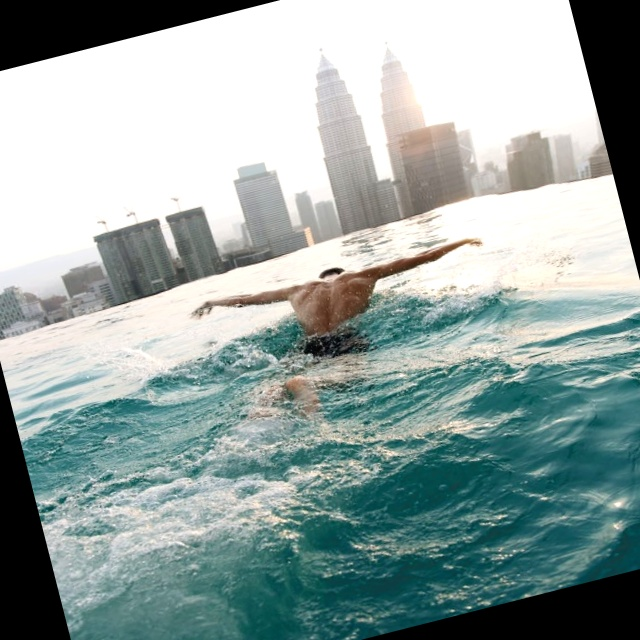contaminated_water: (13, 13, 627, 627)
foam_scum: (0, 0, 640, 606)
oil_spill: (0, 0, 277, 71), (569, 0, 640, 270), (0, 370, 67, 640), (374, 572, 640, 640)
turbid_water: (192, 128, 640, 550)
